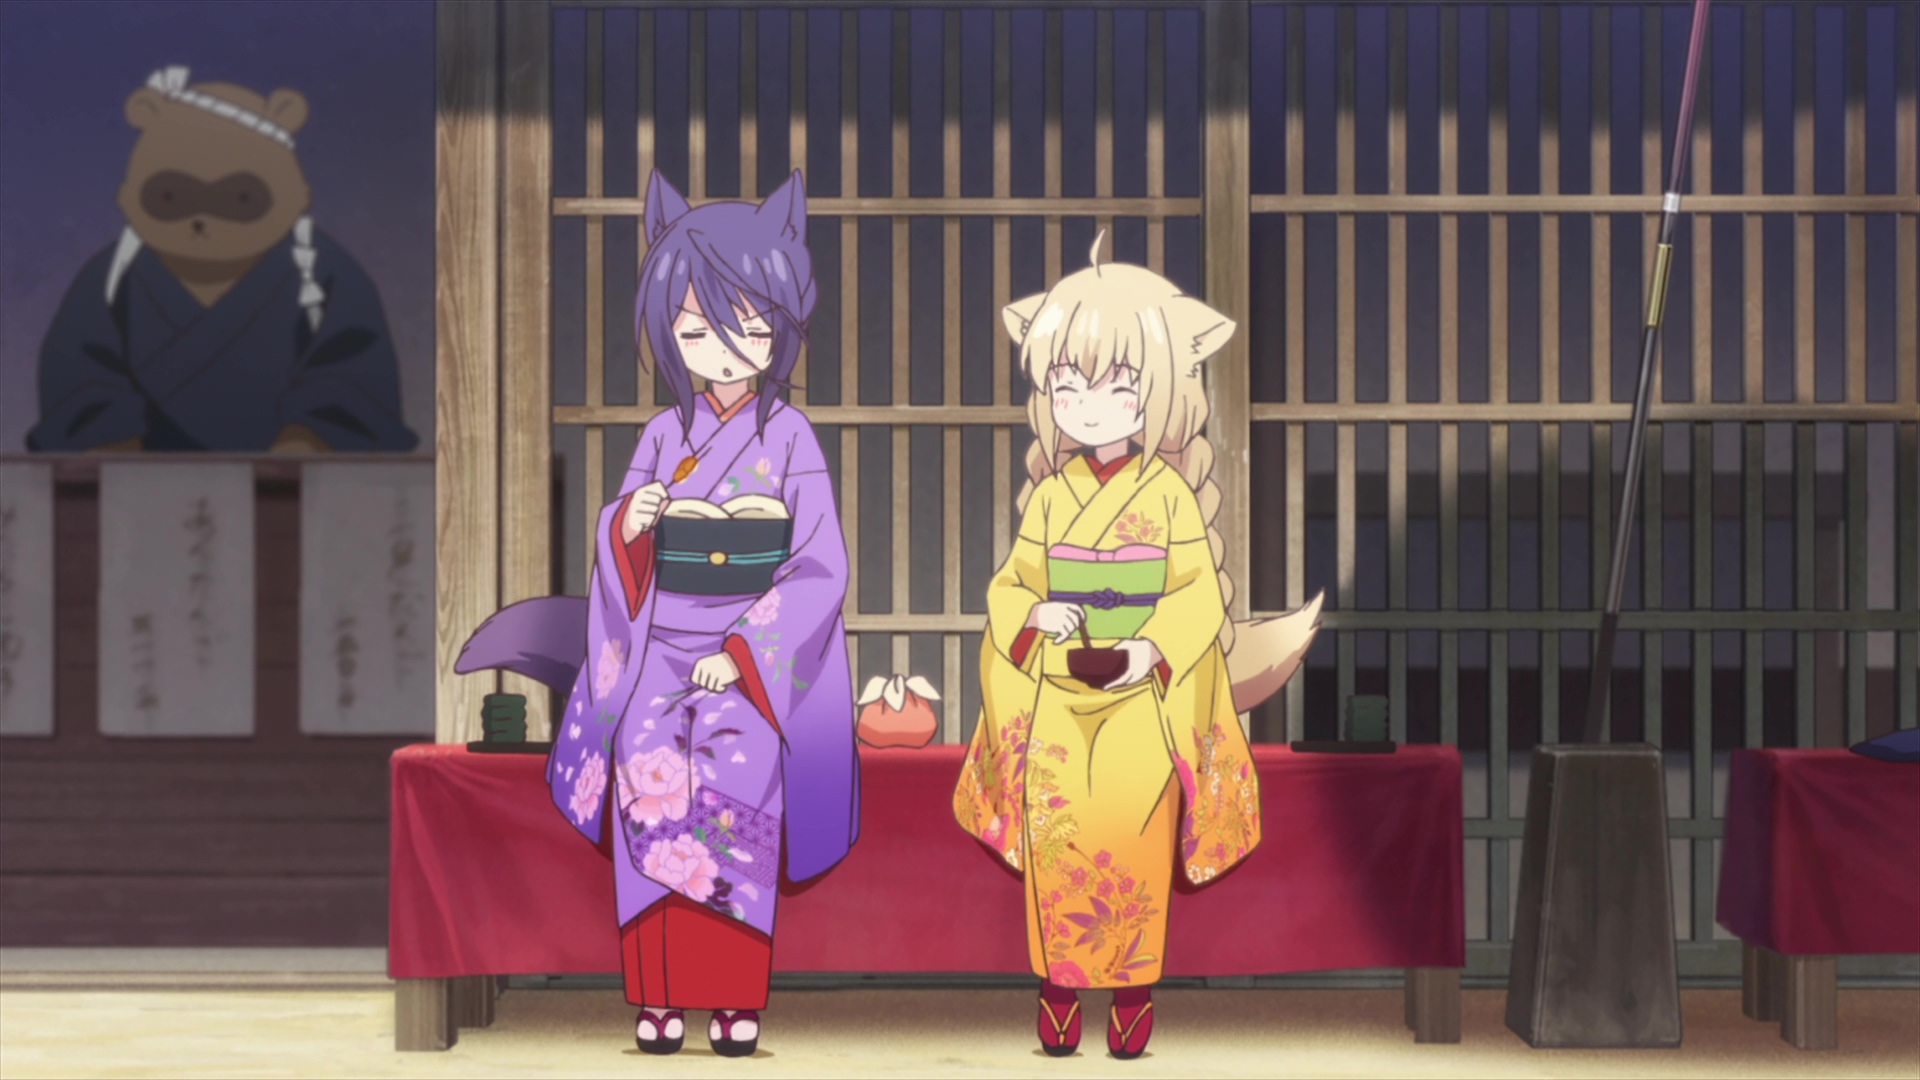其他: (25, 63, 421, 450)
柚: (951, 228, 1323, 1060)
皋: (455, 167, 862, 1058)
